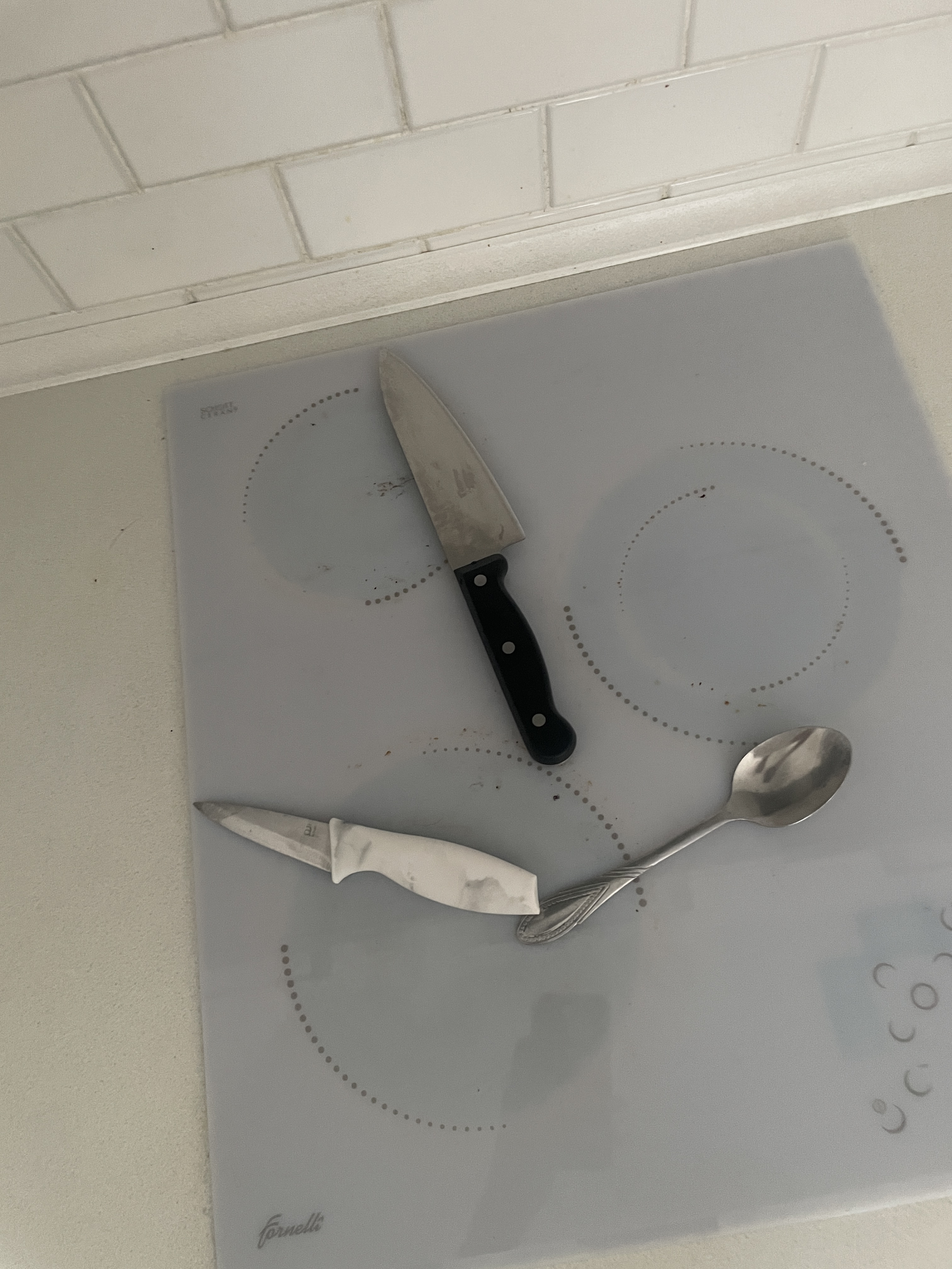knife: (379, 349, 576, 764), (195, 802, 540, 915)
spoon: (516, 726, 851, 944)
